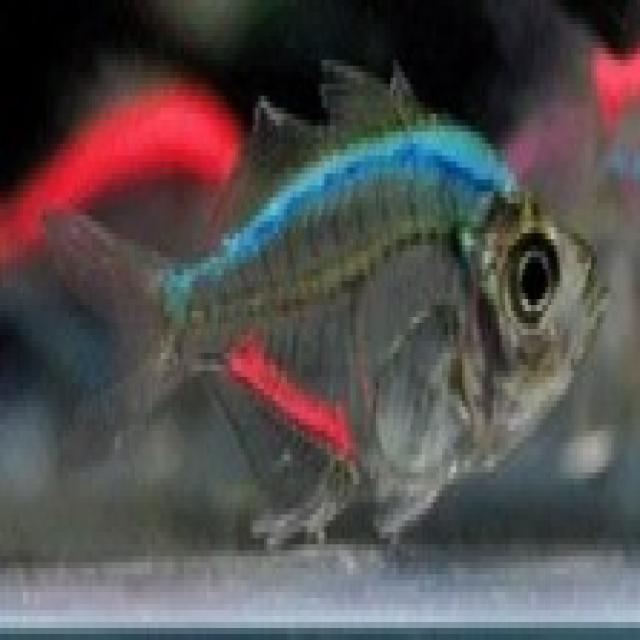Glass-Perchlet: (8, 41, 622, 586)
